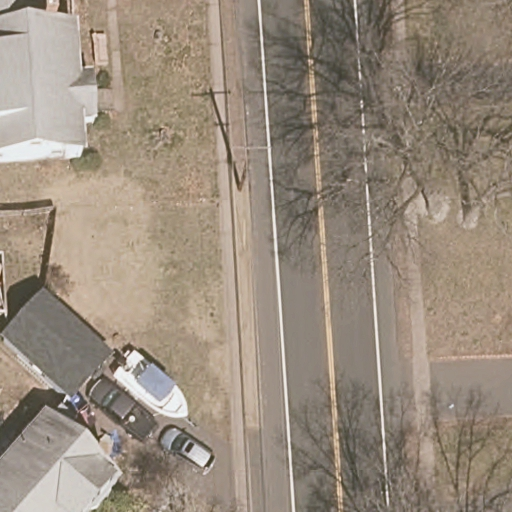DT: (232, 141, 268, 191)
